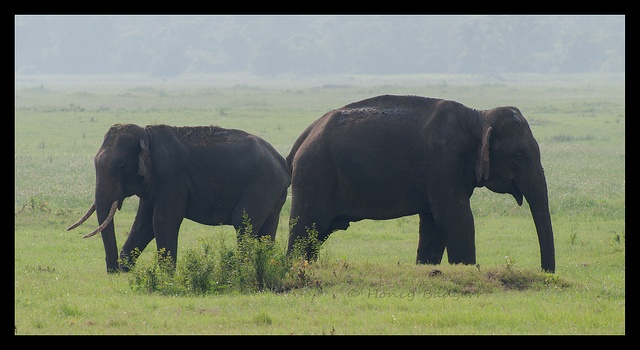elephant: (287, 93, 556, 273), (67, 123, 289, 279)
